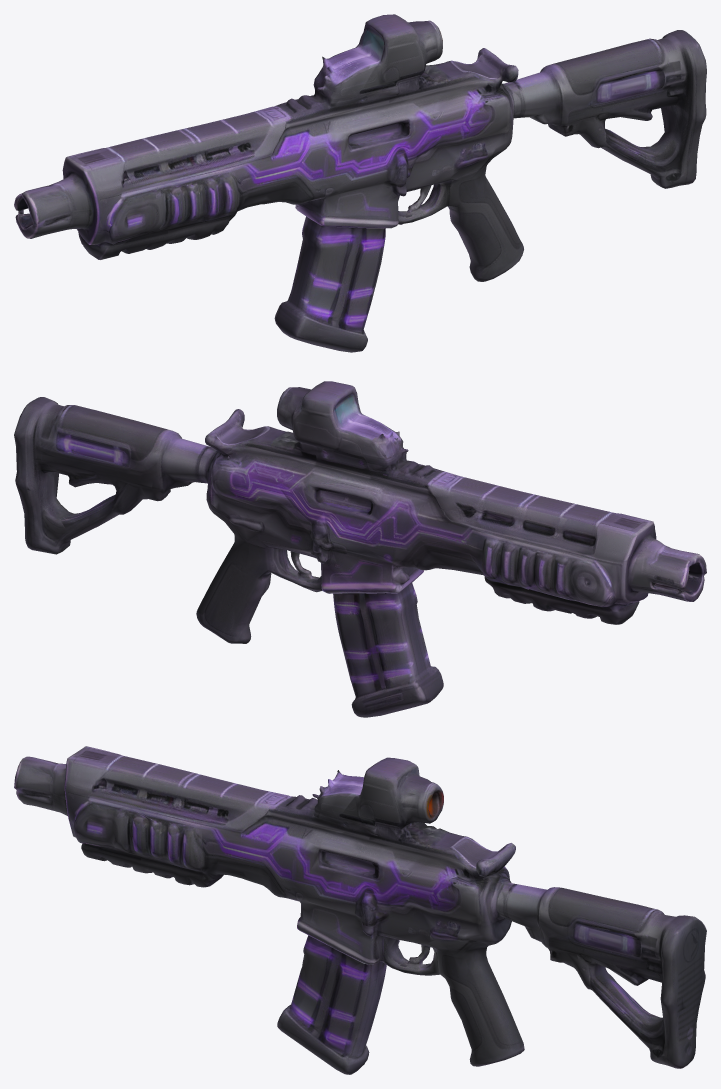
The model's file is Laser_Rifle.fbx.
The picture shows the model from 3 angles, top to bottom: view 1: azimuth 30°, elevation 25°; view 2: azimuth 150°, elevation 25°; view 3: azimuth 330°, elevation 25°; orthographic projection.
Parts seen in each view (by area): view 1: Mesh_0; view 2: Mesh_0; view 3: Mesh_0.
Part boxes in pixels (bbox=[...]): Mesh_0: bbox=[14, 14, 706, 352]; Mesh_0: bbox=[14, 381, 706, 717]; Mesh_0: bbox=[14, 746, 706, 1074].
Bounding box in the file's own units: 200 × 91.16 × 24.2.
Materials: 1 (1 with a texture image).
